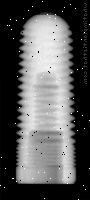Implant Direct: (16, 15, 77, 184)
